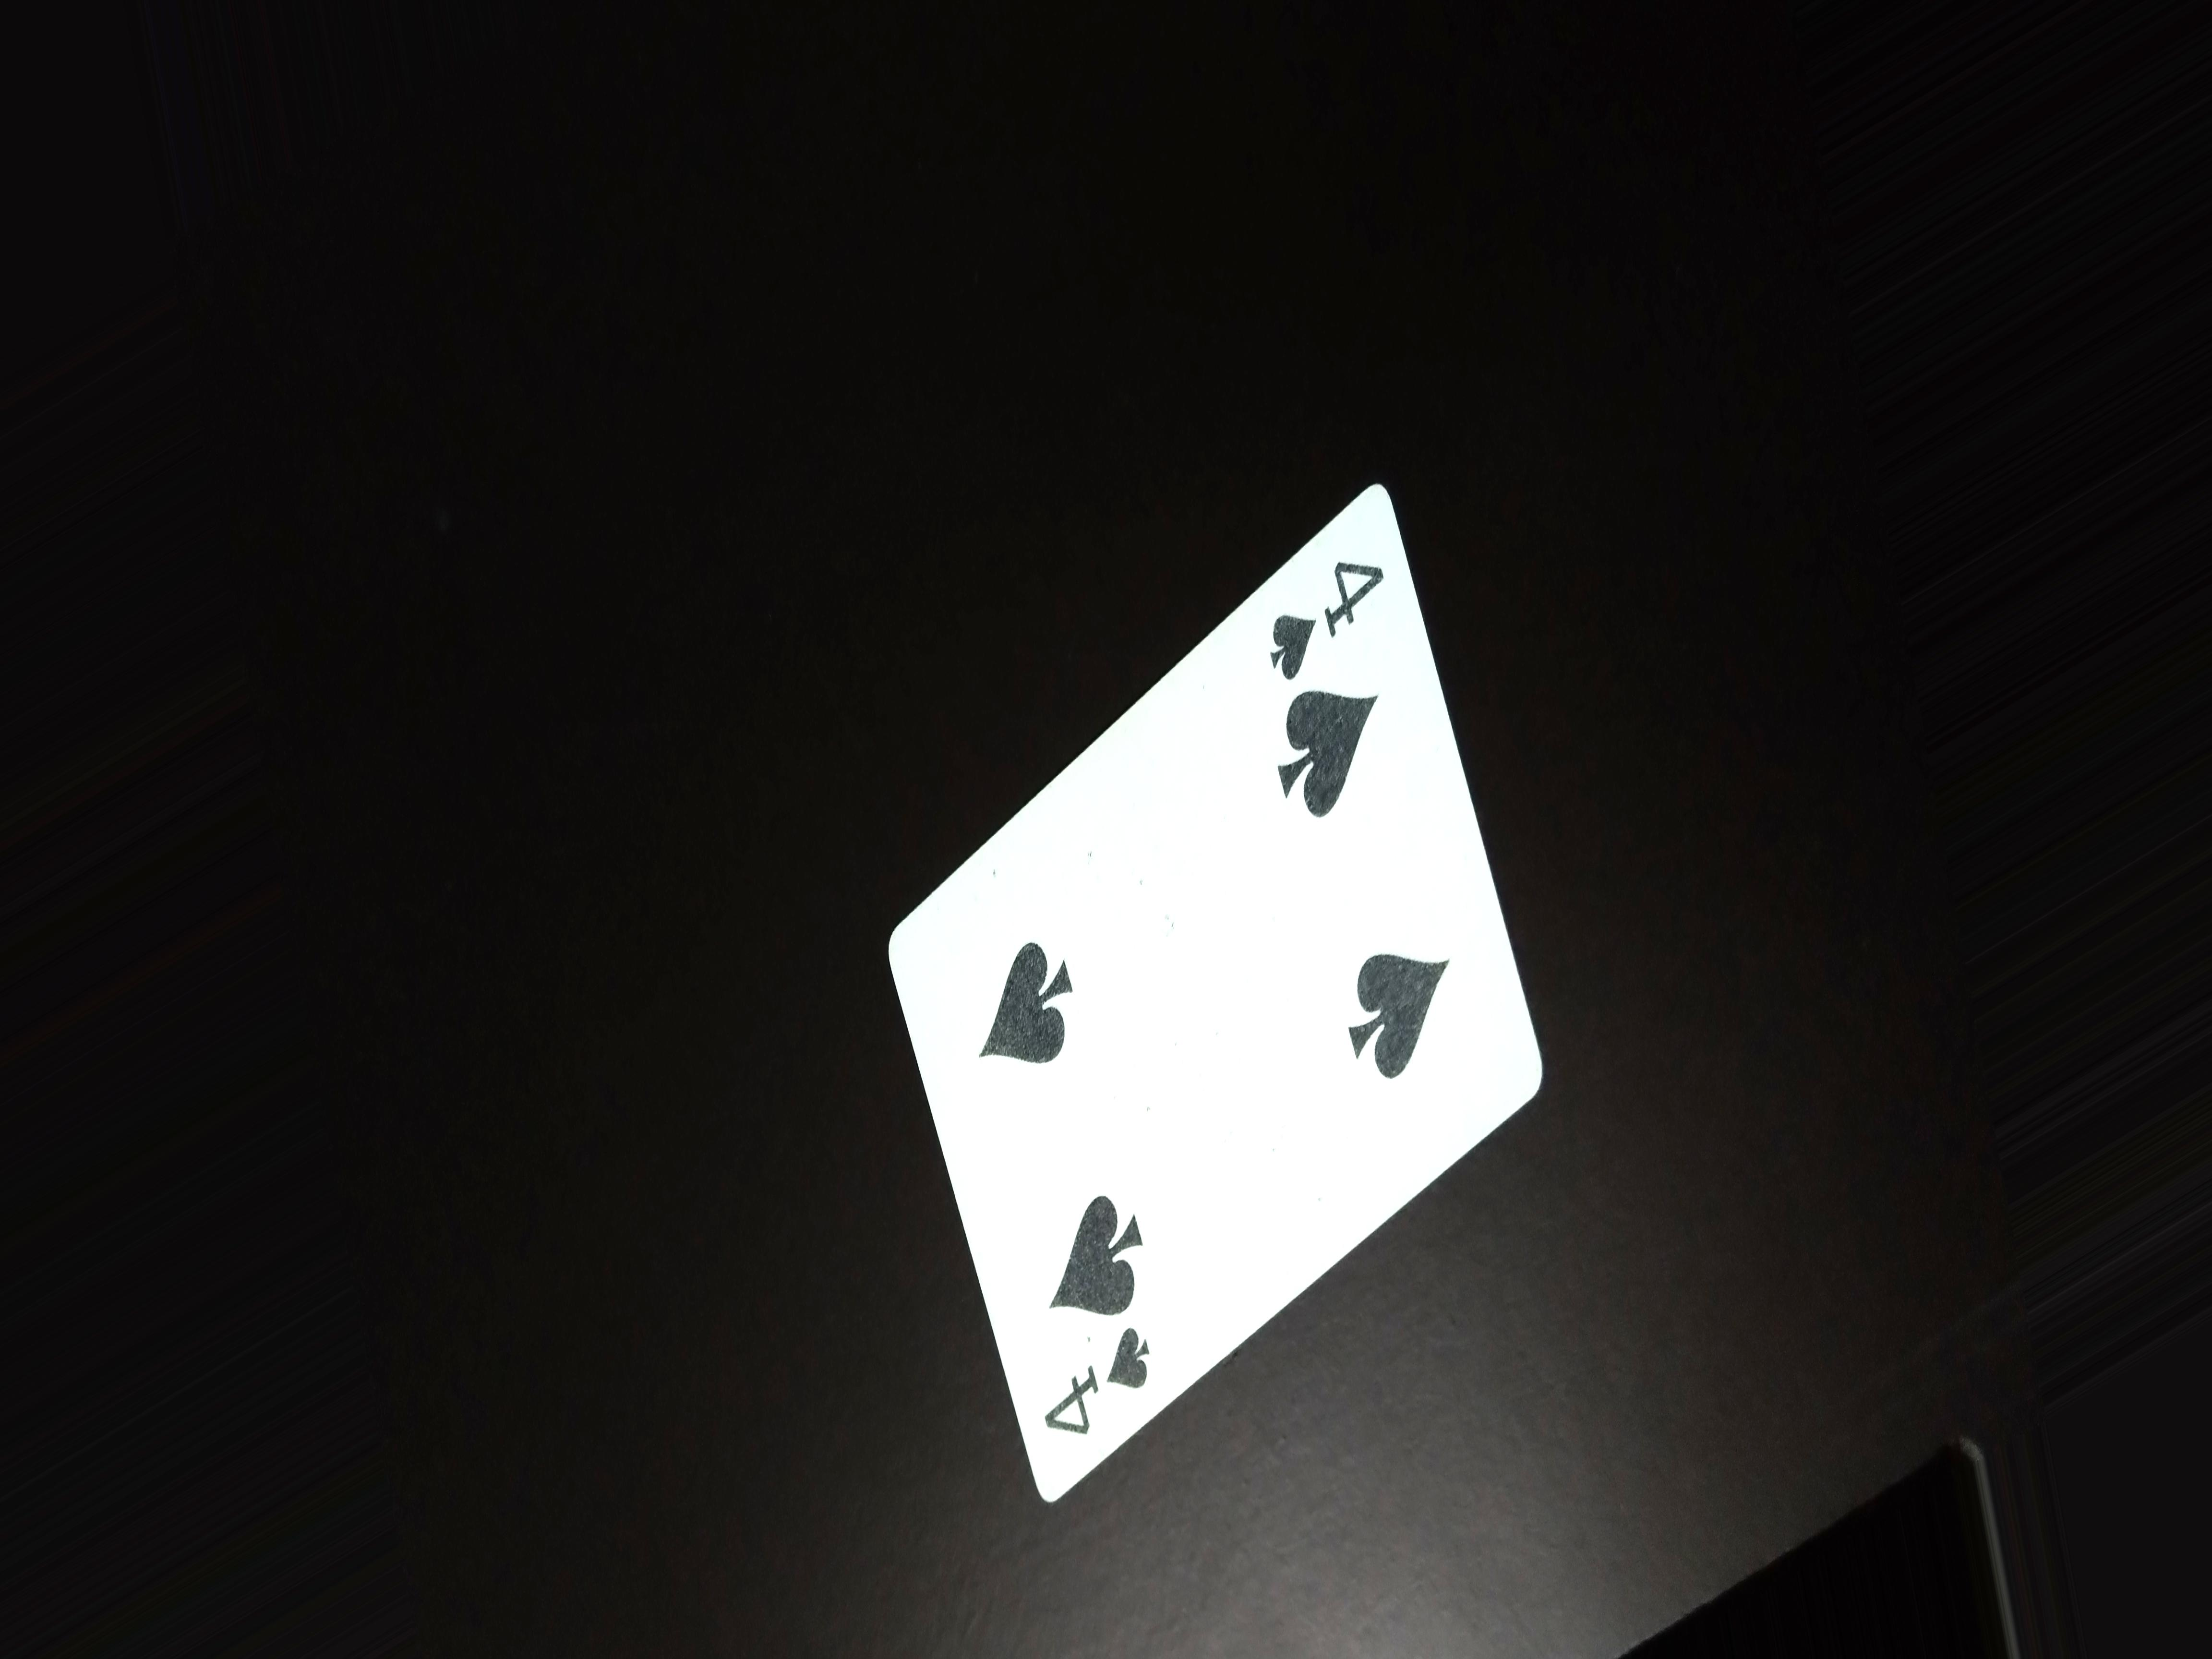4S: (1252, 535, 1397, 692)
